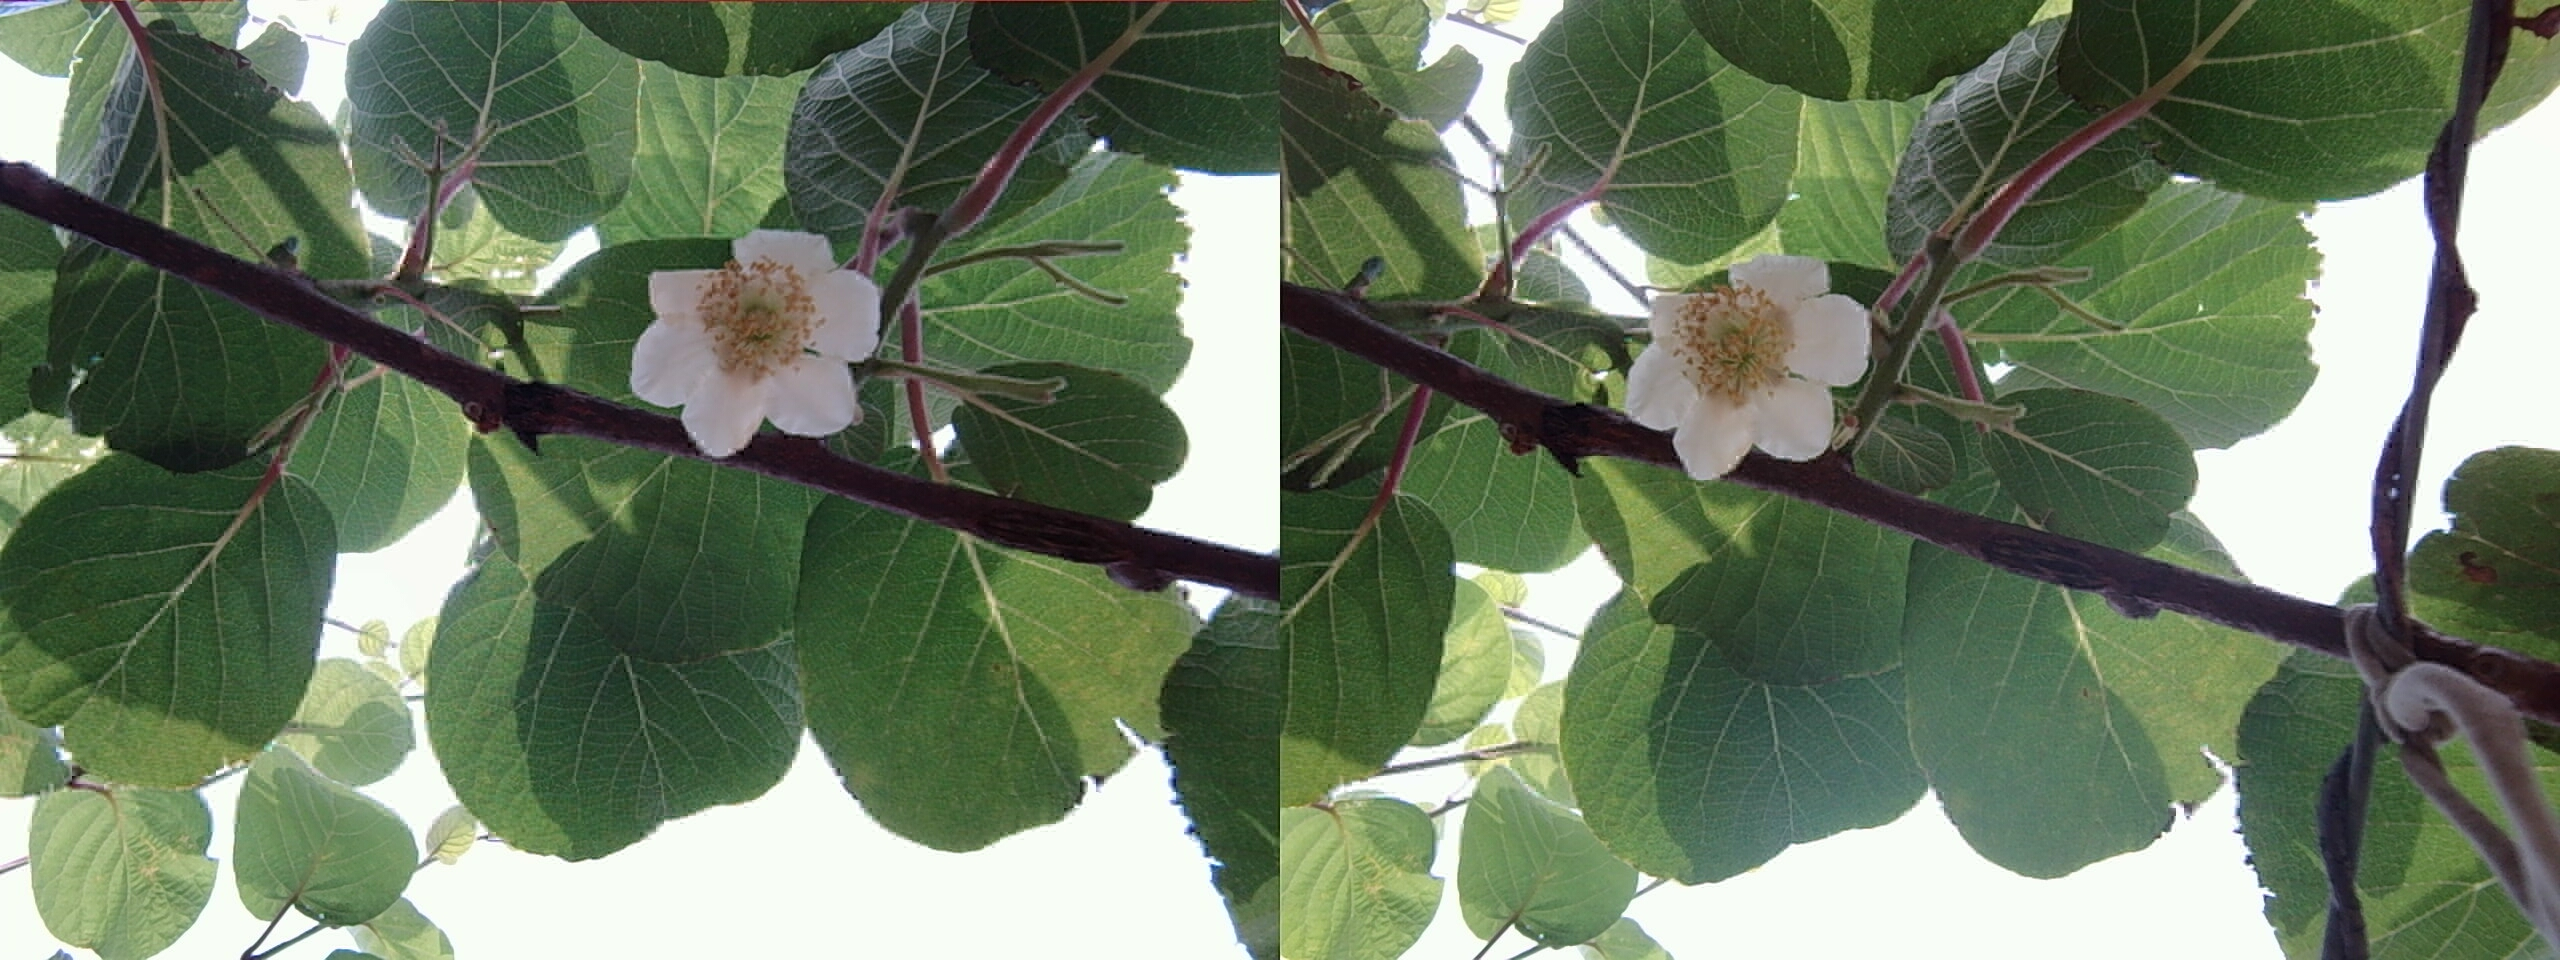flower: (627, 233, 875, 451), (1624, 255, 1860, 470)
